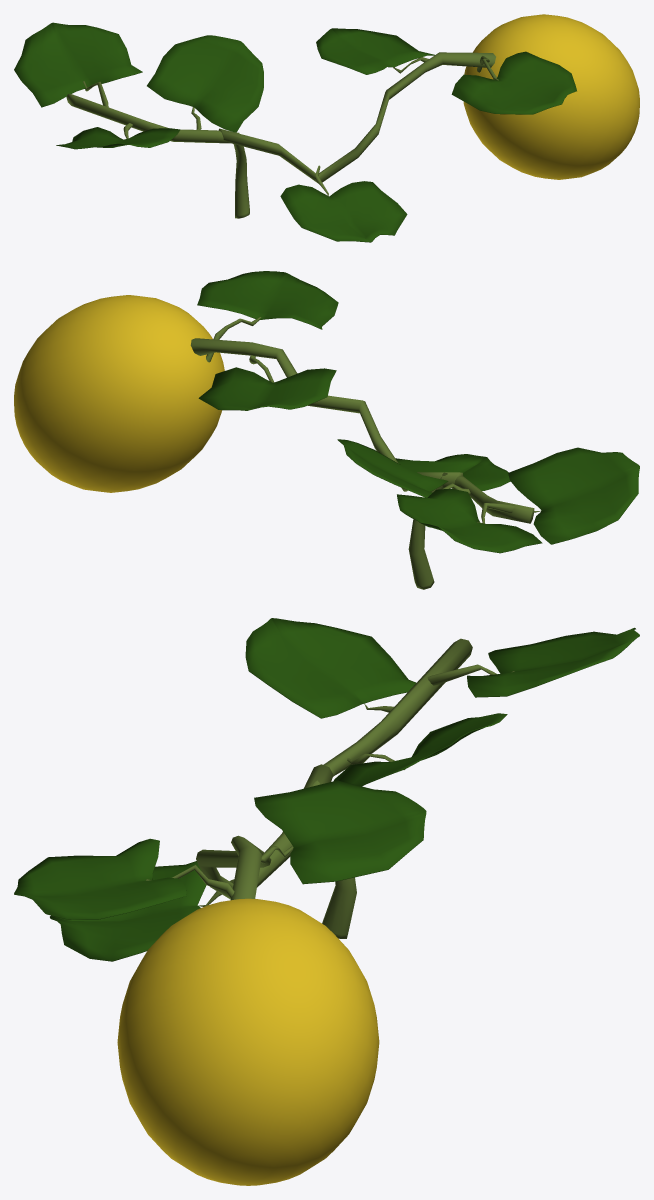
Rendered from MelaoMaduro.fbx.
3 renders of one model, top to bottom at view 1: azimuth 30°, elevation 25°; view 2: azimuth 150°, elevation 25°; view 3: azimuth 270°, elevation 25°, orthographic. The views are drawn at different scales.
Parts seen in each view (by area): view 1: MelaoMaduro; view 2: MelaoMaduro; view 3: MelaoMaduro.
Boxes of the visible parts, x1,y1,x2,y2 form: MelaoMaduro: (14, 14, 639, 242); MelaoMaduro: (14, 271, 639, 589); MelaoMaduro: (14, 618, 639, 1185).
Size of the model in its own units: 75.83 by 20.95 by 48.75.
